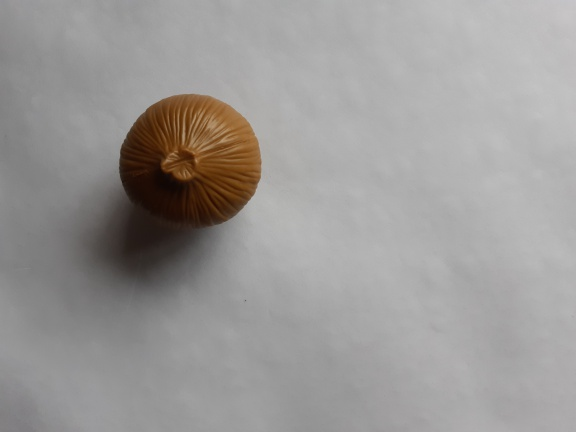onion: (112, 86, 270, 239)
